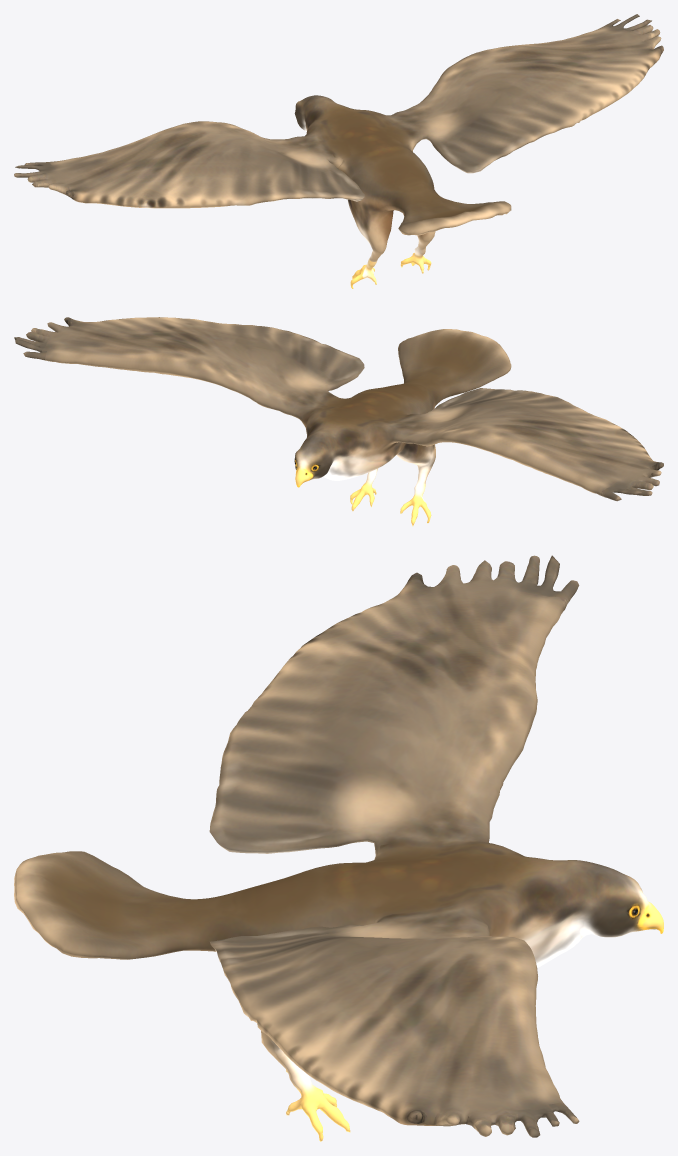
The picture shows the model from 3 angles, top to bottom: view 1: azimuth 30°, elevation 25°; view 2: azimuth 150°, elevation 25°; view 3: azimuth 270°, elevation 25°; orthographic projection. The views are drawn at different scales.
Parts seen in each view (by area): view 1: mesh-retopo new 1; view 2: mesh-retopo new 1; view 3: mesh-retopo new 1.
Part boxes in pixels (x1,y1,x2,y2): mesh-retopo new 1: [14, 14, 663, 288]; mesh-retopo new 1: [14, 317, 663, 526]; mesh-retopo new 1: [14, 555, 663, 1141].
Bounding box in the file's own units: 74.59 × 17.3 × 35.38.
Materials: 1 (1 with a texture image).
